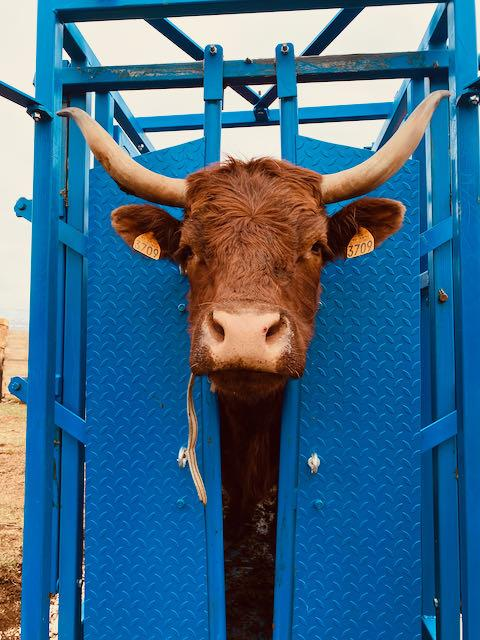muzzles: (181, 305, 316, 398)
